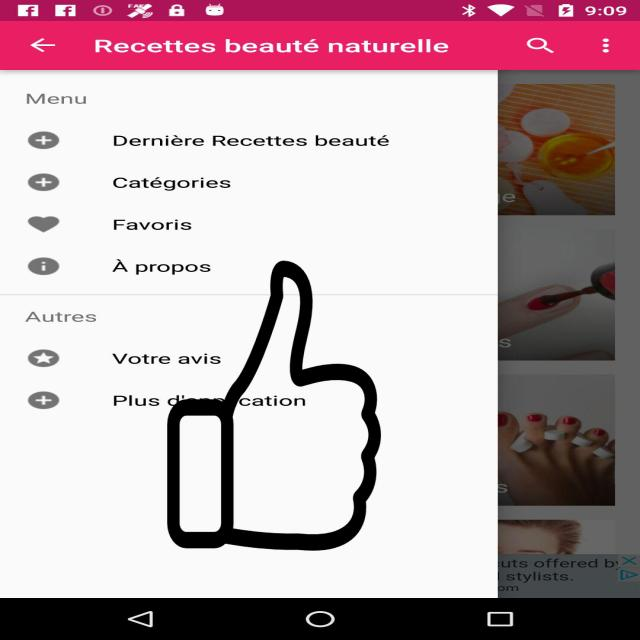privacy zuckering: (164, 260, 384, 550)
